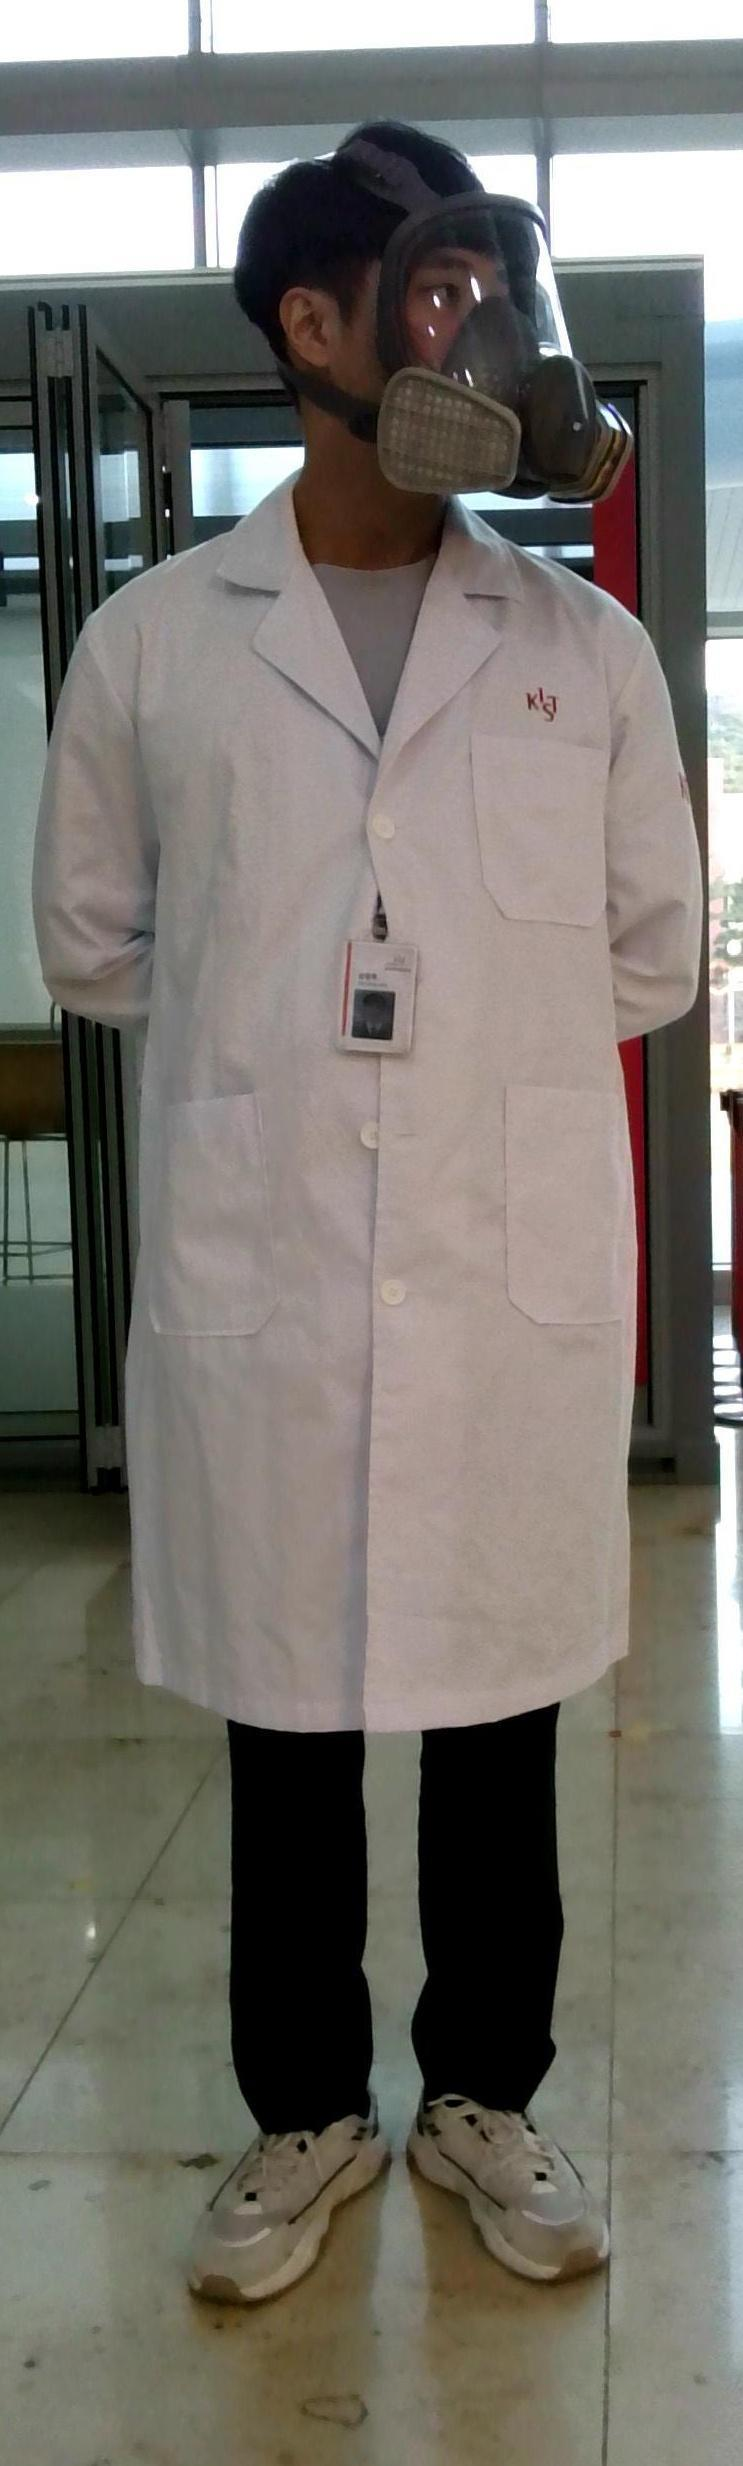lab_coat: (41, 550, 712, 1747)
